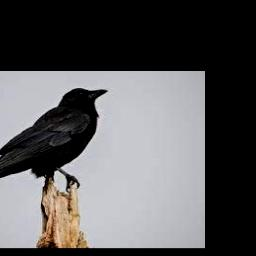Crow: (0, 87, 110, 189)
